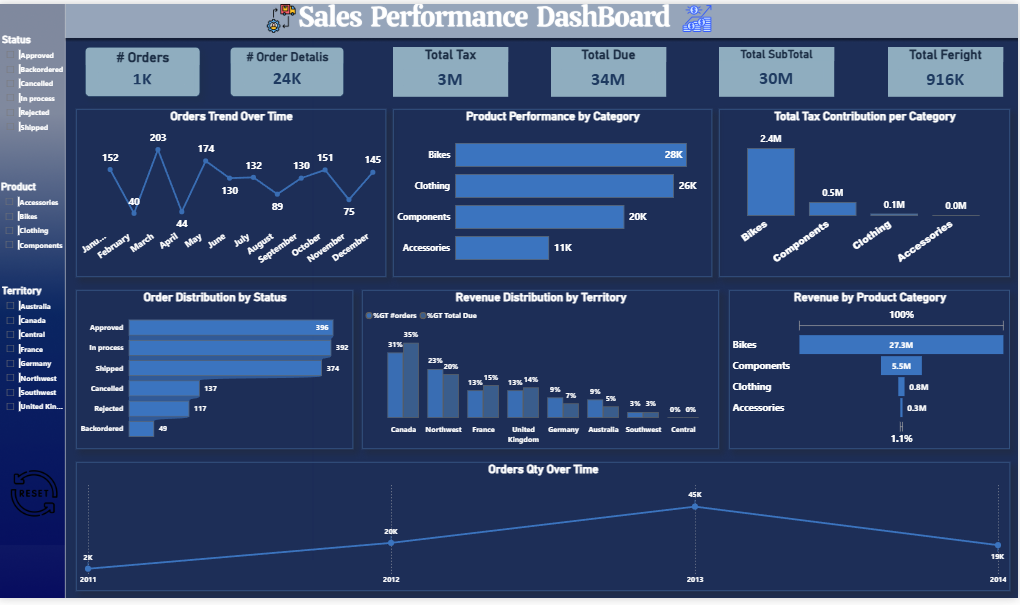

The page's visual inventory and layout, read from the dashboard file:
{"tool":"powerbi","page":{"name":"Page 2","canvas":[1700,990],"ordinal":0},"visuals":[{"type":"cardVisual","title":"# Order Detalis","fields":{"Data":["Measures Table.order detalis"]},"box":[386.7,71.7,190,83.3],"z":0},{"type":"cardVisual","title":"Total Tax","fields":{"Data":["Measures Table.Total Tax"]},"box":[658.3,71.7,191.7,83.3],"z":1000},{"type":"cardVisual","title":"Total Feright","fields":{"Data":["Measures Table.Total Freight"]},"box":[1483.3,71.7,191.7,83.3],"z":2000},{"type":"cardVisual","title":"Total Due","fields":{"Data":["Measures Table.Total Due"]},"box":[921.7,71.7,191.7,83.3],"z":3000},{"type":"cardVisual","title":"Total SubTotal","fields":{"Data":["Measures Table.Total SubTotal"]},"box":[1201.7,71.7,191.7,83.3],"z":4000},{"type":"cardVisual","title":"# Orders","fields":{"Data":["Measures Table.#orders"]},"box":[145,71.7,191.7,83.3],"z":5000},{"type":"lineChart","title":" Orders Trend Over Time","fields":{"Y":["Measures Table.#orders"],"Category":["fact.OrderDate.Variation.Date Hierarchy.Year","fact.OrderDate.Variation.Date Hierarchy.Quarter","fact.OrderDate.Variation.Date Hierarchy.Month"]},"box":[130,175,516.7,280],"z":6000},{"type":"clusteredBarChart","title":"Product Performance by Category","fields":{"Category":["product.Product Hierarchy.Product","product.Product Hierarchy.ProductCategory","product.Product Hierarchy.ProductSubCategory"],"Y":["Measures Table.Order Qty"]},"box":[658.3,175,531.7,280],"z":7000},{"type":"clusteredColumnChart","title":"Total Tax Contribution per Category","fields":{"Category":["product.ProductCategory"],"Y":["Measures Table.Total Tax"]},"box":[1201.7,175,485,280],"z":8000},{"type":"barChart","title":"Order Distribution by Status","fields":{"Category":["Status.Status"],"Y":["Measures Table.#orders"]},"box":[130,476.7,461.7,265],"z":9000},{"type":"clusteredColumnChart","title":"Revenue Distribution by Territory","fields":{"Category":["Territory.Territory"],"Y":["Measures Table.#orders","Measures Table.Total Due"]},"box":[606.7,476.7,595,265],"z":10000},{"type":"funnel","title":"Revenue by Product Category","fields":{"Category":["product.ProductCategory"],"Y":["Sum(fact.TotalDue)"]},"box":[1218.3,476.7,468.3,265],"z":11000},{"type":"image","box":[1140,0,50,48.3],"z":12000},{"type":"image","box":[440,0,63.3,48.3],"z":13000},{"type":"slicer","title":"Product","fields":{"Values":["product.ProductCategory"]},"box":[0,293.3,115,161.7],"z":17000},{"type":"slicer","title":"Status","fields":{"Values":["Status.Status"]},"box":[1.7,48.3,113.3,211.7],"z":18000},{"type":"slicer","title":"Territory","fields":{"Values":["Territory.Territory"]},"box":[1.7,466.7,115,275],"z":19000},{"type":"image","box":[13.3,776.7,93.3,78.3],"z":20000},{"type":"lineChart","title":" Orders Qty Over Time","fields":{"Category":["fact.OrderDate.Variation.Date Hierarchy.Year","fact.OrderDate.Variation.Date Hierarchy.Quarter","fact.OrderDate.Variation.Date Hierarchy.Month"],"Y":["Measures Table.Order Qty"]},"box":[130,763.3,1556.7,215],"z":21000}]}

Visuals, with their boxes on the page's 1700x990 design canvas (x1, y1, x2, y2). These are canvas units, not pixel positions in the 1020x605 screenshot, which may show the page scaled, cropped or inside an application window:
"# Order Detalis" cardVisual: left=387, top=72, right=577, bottom=155
"Total Tax" cardVisual: left=658, top=72, right=850, bottom=155
"Total Feright" cardVisual: left=1483, top=72, right=1675, bottom=155
"Total Due" cardVisual: left=922, top=72, right=1113, bottom=155
"Total SubTotal" cardVisual: left=1202, top=72, right=1393, bottom=155
"# Orders" cardVisual: left=145, top=72, right=337, bottom=155
" Orders Trend Over Time" lineChart: left=130, top=175, right=647, bottom=455
"Product Performance by Category" clusteredBarChart: left=658, top=175, right=1190, bottom=455
"Total Tax Contribution per Category" clusteredColumnChart: left=1202, top=175, right=1687, bottom=455
"Order Distribution by Status" barChart: left=130, top=477, right=592, bottom=742
"Revenue Distribution by Territory" clusteredColumnChart: left=607, top=477, right=1202, bottom=742
"Revenue by Product Category" funnel: left=1218, top=477, right=1687, bottom=742
image: left=1140, top=0, right=1190, bottom=48
image: left=440, top=0, right=503, bottom=48
"Product" slicer: left=0, top=293, right=115, bottom=455
"Status" slicer: left=2, top=48, right=115, bottom=260
"Territory" slicer: left=2, top=467, right=117, bottom=742
image: left=13, top=777, right=107, bottom=855
" Orders Qty Over Time" lineChart: left=130, top=763, right=1687, bottom=978
